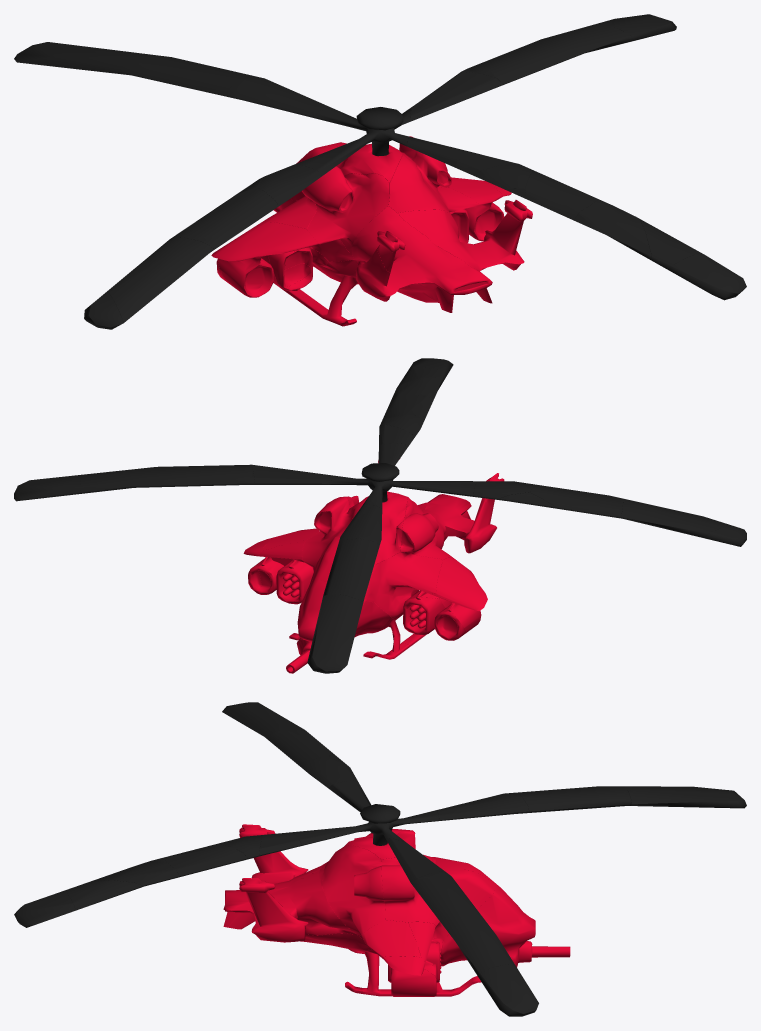
The model's file is enemyHelicopterExplode.fbx.
The picture shows the model from 3 angles, top to bottom: view 1: azimuth 30°, elevation 25°; view 2: azimuth 150°, elevation 25°; view 3: azimuth 270°, elevation 25°; orthographic projection. The views are drawn at different scales.
Visible parts, largest first — view 1: Helicopterbody.001_cell.010, Helicopterbody.001_cell.013, Helicopterbody.001_cell.011, Helicopterbody.001_cell.029, helicopterblades.001_cell.002, helicopterblades.001_cell.008, Helicopterbody.001_cell.018, helicopterblades.001_cell.003, helicopterblades.001_cell.007, helicopterblades.001_cell.018, helicopterblades.001_cell.001, helicopterblades.001_cell.017 (+17 smaller); view 2: helicopterblades.001_cell.002, helicopterblades.001_cell.001, Helicopterbody.001_cell.016, Helicopterbody.001_cell.010, Helicopterbody.001_cell.030, helicopterblades.001_cell.007, Helicopterbody.001_cell.006, Helicopterbody.001_cell.029, helicopterblades.001_cell.003, helicopterblades.001_cell.008, helicopterblades.001_cell.018, Helicopterbody.001_cell.013 (+16 smaller); view 3: Helicopterbody.001_cell.011, Helicopterbody.001_cell.018, helicopterblades.001_cell.002, Helicopterbody.001_cell.007, Helicopterbody.001_cell.006, helicopterblades.001_cell.003, helicopterblades.001_cell.001, helicopterblades.001_cell.007, helicopterblades.001_cell.006, Helicopterbody.001_cell.010, Helicopterbody.001_cell.005, helicopterblades.001_cell.014 (+17 smaller).
Part boxes in pixels (<box>): Helicopterbody.001_cell.010: <box>351,206,492,312</box>; Helicopterbody.001_cell.013: <box>302,166,389,253</box>; Helicopterbody.001_cell.011: <box>398,200,532,301</box>; Helicopterbody.001_cell.029: <box>211,222,319,297</box>; helicopterblades.001_cell.002: <box>458,23,633,87</box>; helicopterblades.001_cell.008: <box>107,237,214,322</box>; Helicopterbody.001_cell.018: <box>388,151,479,215</box>; helicopterblades.001_cell.003: <box>296,107,411,175</box>; helicopterblades.001_cell.007: <box>118,54,252,97</box>; helicopterblades.001_cell.018: <box>172,188,278,249</box>; helicopterblades.001_cell.001: <box>14,42,149,74</box>; helicopterblades.001_cell.017: <box>574,199,652,260</box>; helicopterblades.001_cell.002: <box>80,464,254,493</box>; helicopterblades.001_cell.001: <box>307,594,363,673</box>; Helicopterbody.001_cell.016: <box>366,552,443,599</box>; Helicopterbody.001_cell.010: <box>422,494,496,553</box>; Helicopterbody.001_cell.030: <box>250,540,313,603</box>; helicopterblades.001_cell.007: <box>323,538,379,602</box>; Helicopterbody.001_cell.006: <box>302,497,358,581</box>; Helicopterbody.001_cell.029: <box>436,557,487,632</box>; helicopterblades.001_cell.003: <box>327,463,476,508</box>; helicopterblades.001_cell.008: <box>621,498,733,538</box>; helicopterblades.001_cell.018: <box>529,485,623,518</box>; Helicopterbody.001_cell.013: <box>400,497,452,559</box>; Helicopterbody.001_cell.011: <box>228,865,356,942</box>; Helicopterbody.001_cell.018: <box>322,845,385,938</box>; helicopterblades.001_cell.002: <box>412,871,515,975</box>; Helicopterbody.001_cell.007: <box>435,883,570,996</box>; Helicopterbody.001_cell.006: <box>381,858,494,938</box>; helicopterblades.001_cell.003: <box>328,780,439,845</box>; helicopterblades.001_cell.001: <box>624,786,746,808</box>; helicopterblades.001_cell.007: <box>516,786,631,812</box>; helicopterblades.001_cell.006: <box>478,964,538,1016</box>; Helicopterbody.001_cell.010: <box>223,851,328,927</box>; Helicopterbody.001_cell.005: <box>361,920,421,982</box>; helicopterblades.001_cell.014: <box>437,792,529,820</box>.
Bounding box in the file's own units: 1467 × 356 × 1467.
